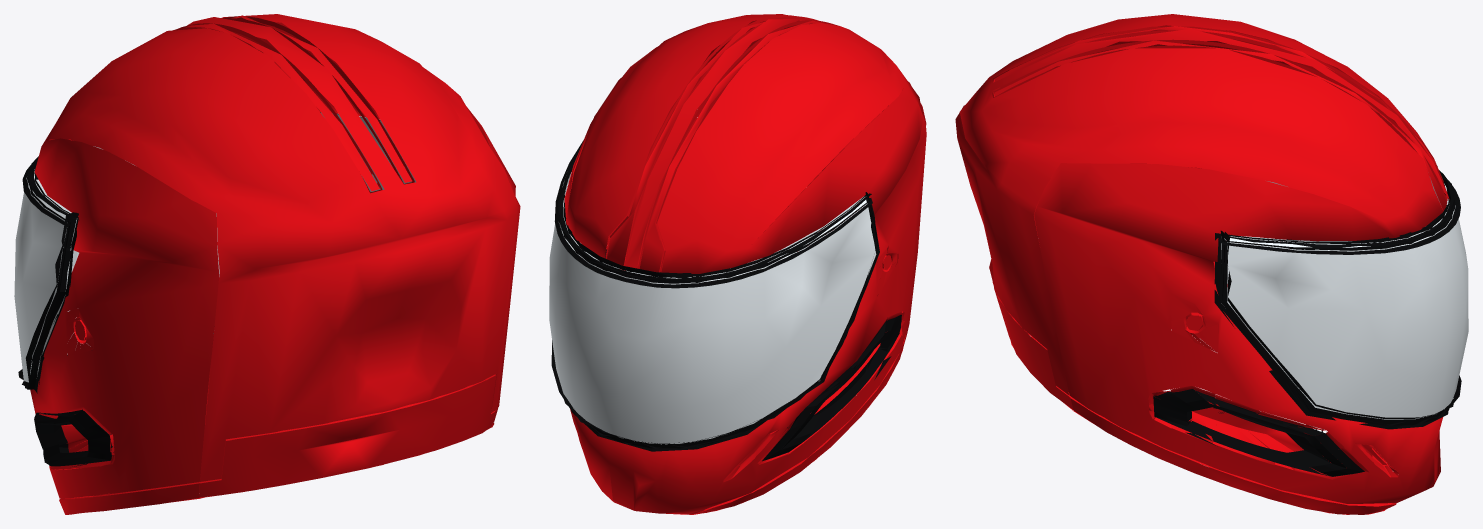
Rendered from red_helmet.obj.
3 renders of one model, left to right at view 1: azimuth 30°, elevation 25°; view 2: azimuth 150°, elevation 25°; view 3: azimuth 270°, elevation 25°, orthographic. The views are drawn at different scales.
Visible parts, largest first — view 1: Red_Helmet_Shell, White_Visor, Top_Detail_Red, Black_Visor_Surround, Lower_Trim_Black; view 2: Red_Helmet_Shell, White_Visor, Black_Visor_Surround, Top_Detail_Red, Lower_Trim_Black; view 3: Red_Helmet_Shell, White_Visor, Black_Visor_Surround, Lower_Trim_Black, Top_Detail_Red.
Part boxes in pixels (x1,y1,x2,y2): Red_Helmet_Shell: (30, 14, 520, 514); White_Visor: (14, 112, 416, 382); Top_Detail_Red: (183, 15, 413, 192); Black_Visor_Surround: (18, 112, 380, 393); Lower_Trim_Black: (34, 409, 113, 466); Red_Helmet_Shell: (564, 14, 926, 514); White_Visor: (549, 172, 876, 444); Black_Visor_Surround: (551, 140, 879, 451); Top_Detail_Red: (606, 15, 832, 272); Lower_Trim_Black: (605, 249, 901, 461); Red_Helmet_Shell: (955, 14, 1449, 514); White_Visor: (1221, 178, 1468, 419); Black_Visor_Surround: (1214, 166, 1461, 429); Lower_Trim_Black: (1153, 389, 1364, 476); Top_Detail_Red: (994, 26, 1447, 210).
Bounding box in the file's own units: 0.4644 × 0.6031 × 0.6133.
Materials: 1 (1 with a texture image).
